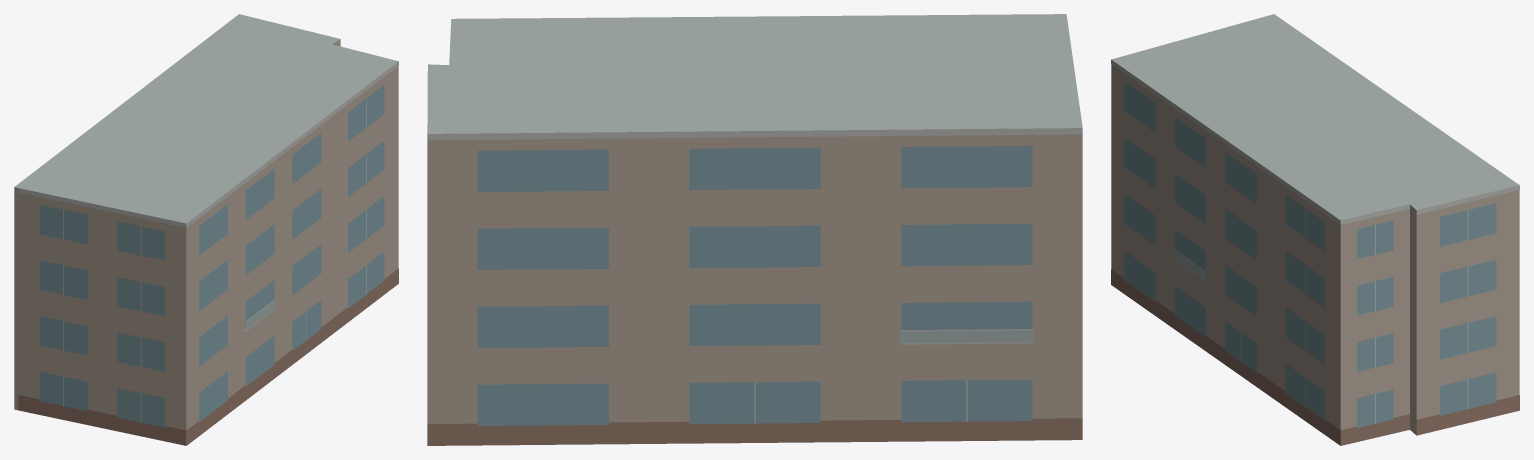
The model's file is survey-upis-32762783.glb.
3 views of the same model, side by side, from view 1: azimuth 30°, elevation 25°; view 2: azimuth 150°, elevation 25°; view 3: azimuth 270°, elevation 25° (orthographic). The views are drawn at different scales.
Visible parts, largest first — view 1: survey-upis-32762783.tmp; view 2: survey-upis-32762783.tmp; view 3: survey-upis-32762783.tmp.
Part boxes in pixels (x1=…): survey-upis-32762783.tmp: x1=14, y1=14, x2=398, y2=445; survey-upis-32762783.tmp: x1=427, y1=14, x2=1082, y2=445; survey-upis-32762783.tmp: x1=1111, y1=14, x2=1519, y2=445.
Bounding box in the file's own units: 23.78 × 12.1 × 19.88.
